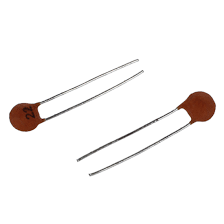ceramic capacitor: (3, 78, 53, 156), (158, 85, 224, 137)
